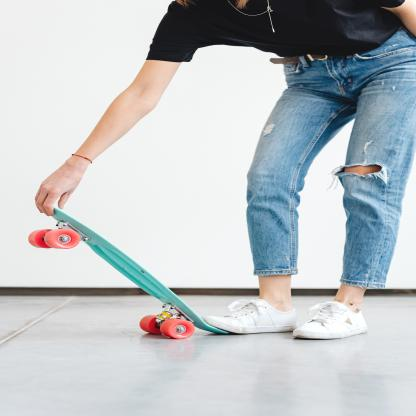dress: (144, 0, 414, 64)
